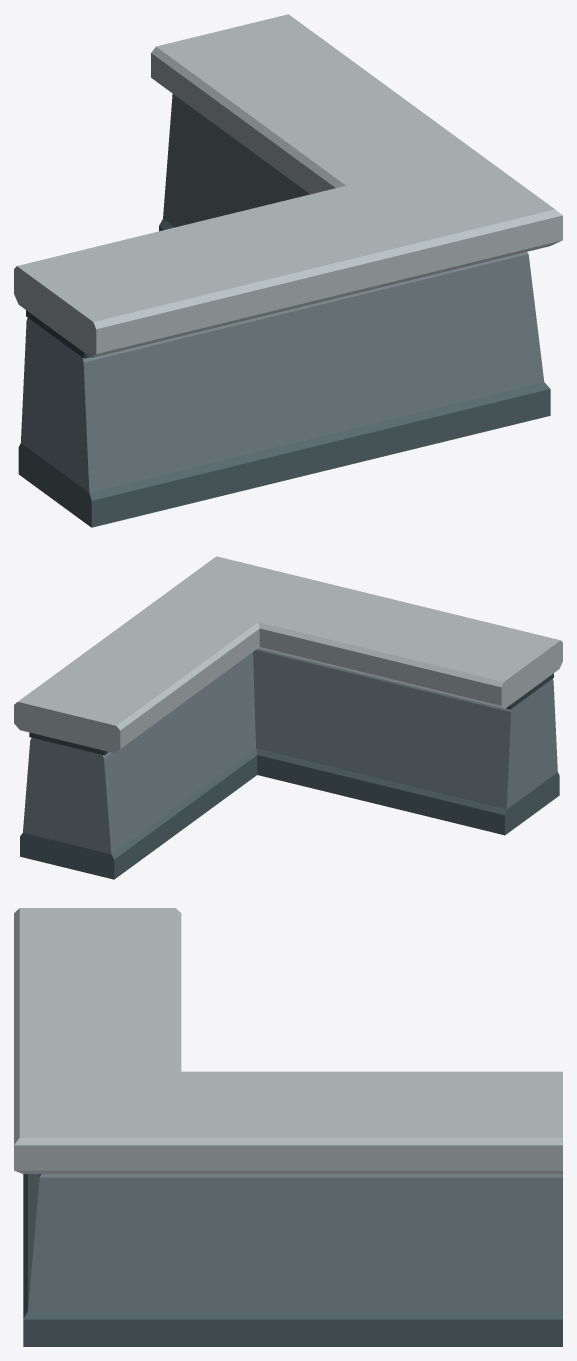
Rendered from city_shore_edges_04_wall_corner.glb.
3 renders of one model, top to bottom at view 1: azimuth 30°, elevation 25°; view 2: azimuth 150°, elevation 25°; view 3: azimuth 270°, elevation 25°, orthographic. The views are drawn at different scales.
Visible parts, largest first — view 1: CityShoreEdges04_wall_corner_Mesh; view 2: CityShoreEdges04_wall_corner_Mesh; view 3: CityShoreEdges04_wall_corner_Mesh.
Part boxes in pixels (left/top/right/bottom): CityShoreEdges04_wall_corner_Mesh: left=14, top=14, right=562, bottom=527; CityShoreEdges04_wall_corner_Mesh: left=14, top=556, right=562, bottom=879; CityShoreEdges04_wall_corner_Mesh: left=14, top=908, right=562, bottom=1346.
Bounding box in the file's own units: 2.36 × 1 × 2.36.
